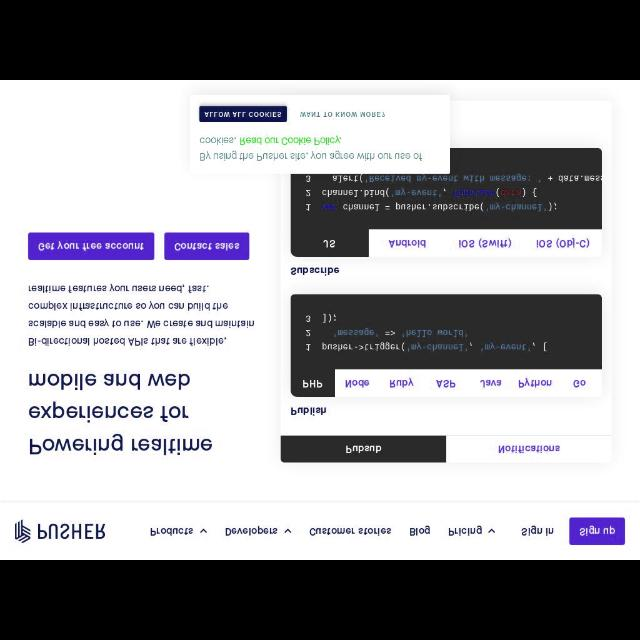icon: (199, 528, 207, 534), (284, 528, 292, 534), (487, 528, 495, 534)
image: (14, 518, 108, 544)
panel: (190, 94, 450, 174)
text: (29, 371, 213, 457), (27, 283, 255, 347), (303, 174, 601, 212), (304, 312, 554, 354), (199, 136, 423, 162), (36, 242, 146, 252), (310, 526, 390, 536), (498, 444, 560, 456), (457, 237, 513, 250), (299, 110, 386, 118), (173, 242, 241, 252), (534, 237, 590, 249), (225, 524, 278, 536), (577, 524, 617, 538), (290, 266, 340, 276), (517, 377, 553, 389), (150, 527, 193, 537), (388, 238, 428, 248), (522, 525, 554, 537), (344, 444, 382, 454), (290, 406, 326, 416), (448, 526, 482, 536), (343, 376, 369, 389), (388, 377, 414, 389), (300, 378, 324, 388), (478, 378, 502, 388), (435, 379, 457, 389), (410, 526, 430, 536), (320, 239, 338, 249), (572, 378, 588, 388)
textbutton: (280, 436, 446, 462), (446, 436, 612, 462), (28, 230, 156, 260), (164, 232, 250, 260), (445, 230, 523, 258), (524, 229, 602, 257), (292, 229, 368, 257), (369, 230, 445, 258), (570, 516, 626, 546), (198, 106, 288, 122), (510, 370, 560, 396), (378, 369, 422, 396), (291, 370, 335, 396), (334, 370, 378, 396), (562, 370, 602, 398), (422, 370, 464, 396), (466, 370, 508, 396)
toolbar: (1, 502, 640, 560)
